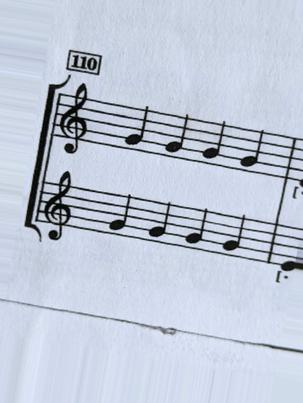note: (122, 101, 154, 157), (235, 124, 267, 175), (144, 199, 176, 249), (103, 191, 135, 239), (162, 110, 192, 161), (220, 212, 250, 262), (202, 117, 230, 169), (182, 205, 211, 254)
